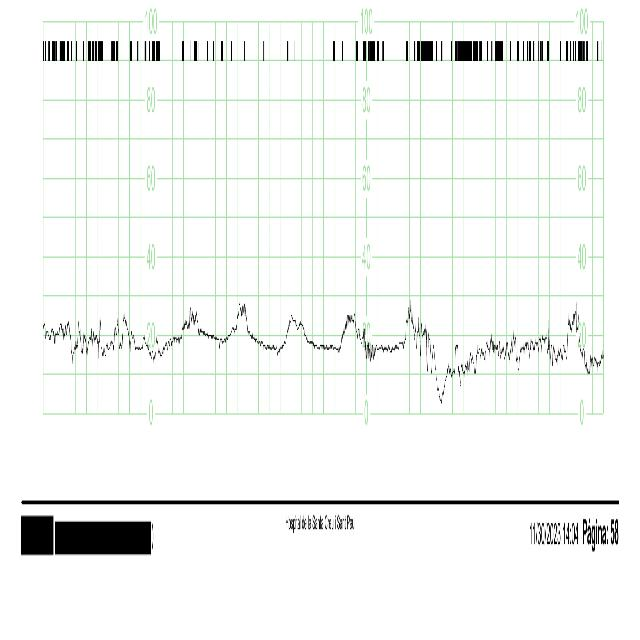contraction: (566, 297, 584, 365)
